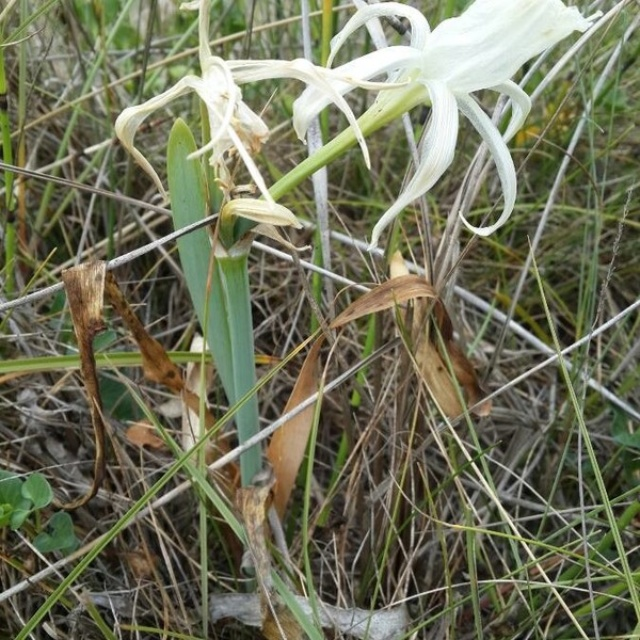obstacle: (121, 22, 362, 503)
